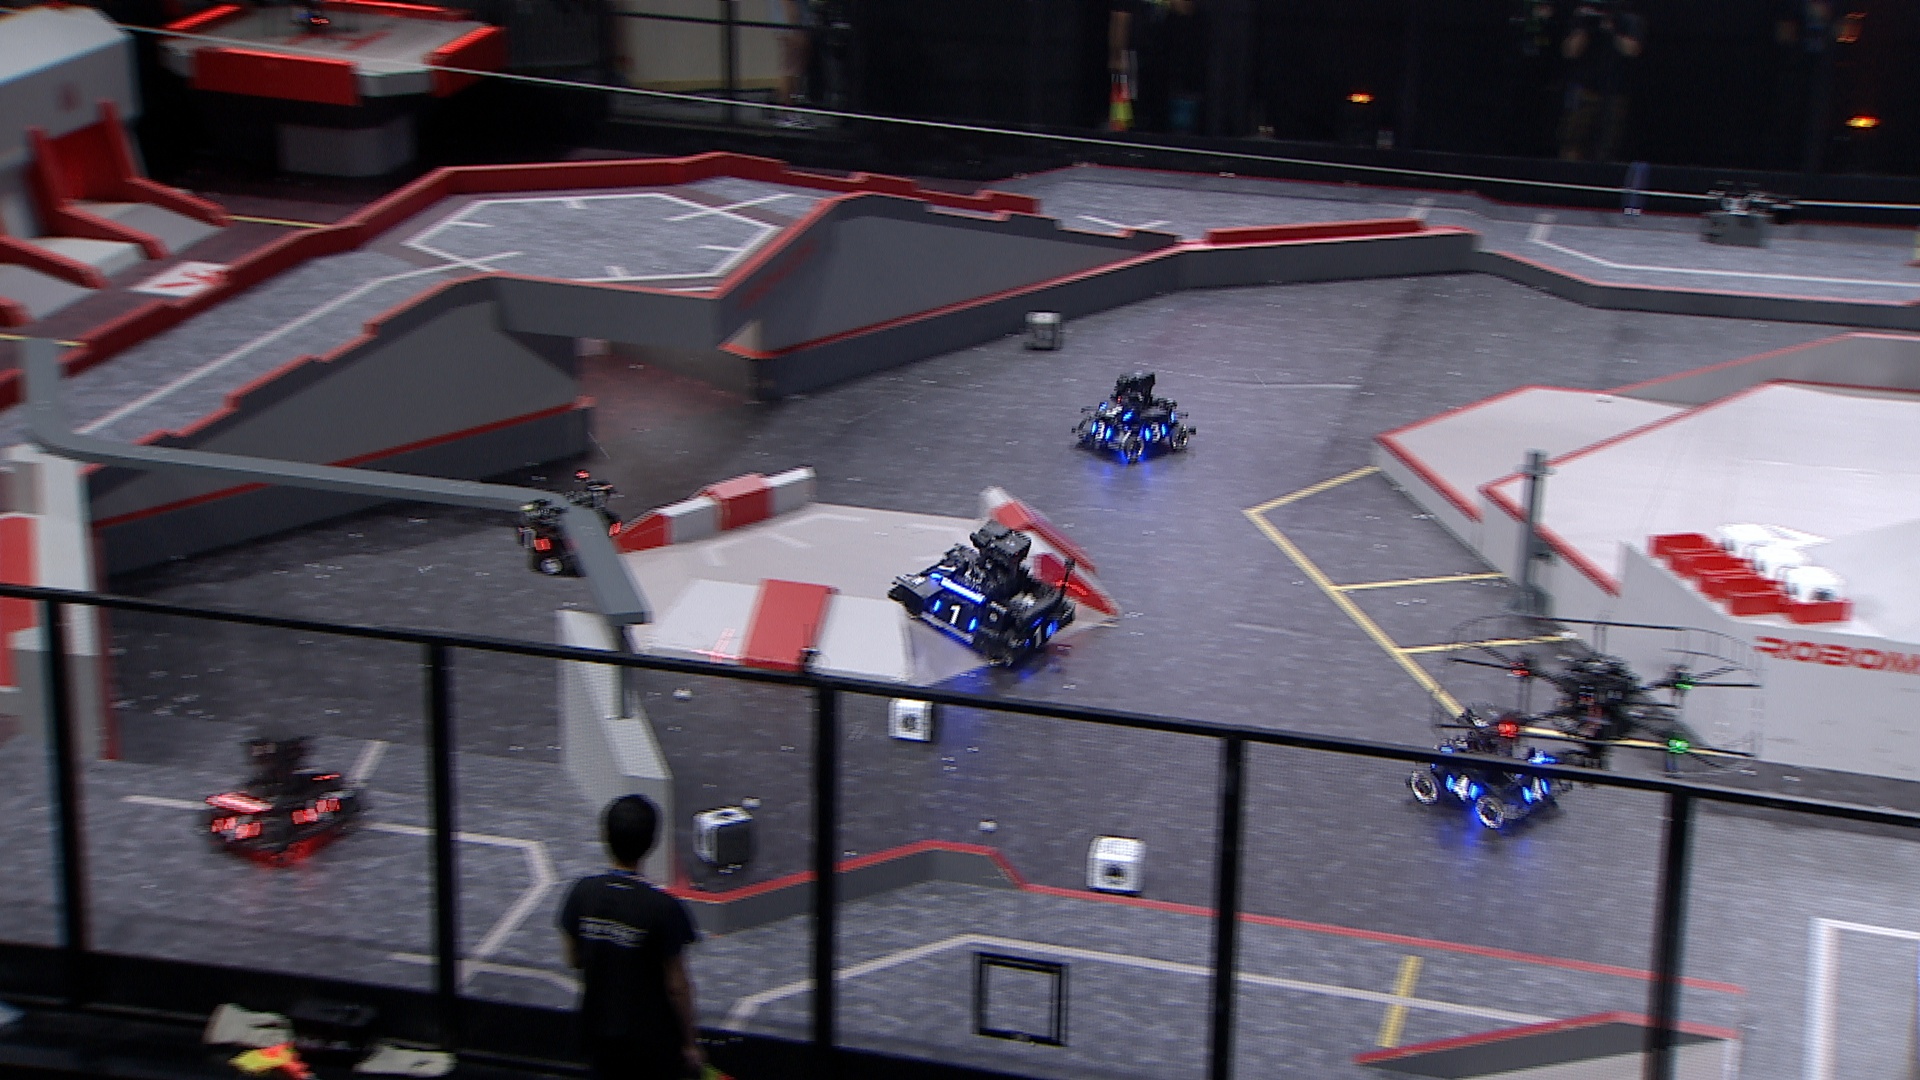armor: (931, 600, 978, 633), (295, 798, 342, 829), (212, 816, 262, 845), (1443, 773, 1484, 802), (514, 527, 549, 553), (1522, 777, 1553, 803), (1025, 622, 1058, 647), (1100, 401, 1131, 419), (1088, 419, 1114, 440), (1143, 422, 1168, 442), (931, 562, 957, 580)
car: (889, 520, 1077, 669), (191, 723, 377, 865), (1408, 703, 1580, 832), (1069, 367, 1197, 462)
watcher: (505, 472, 626, 580)
